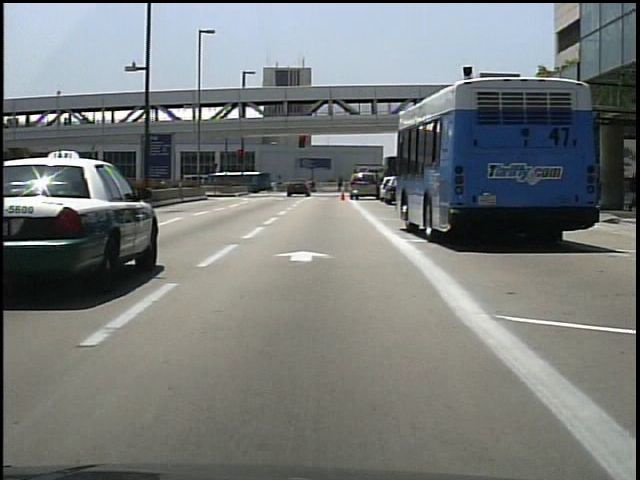person: (334, 178, 344, 194), (308, 180, 318, 195)
